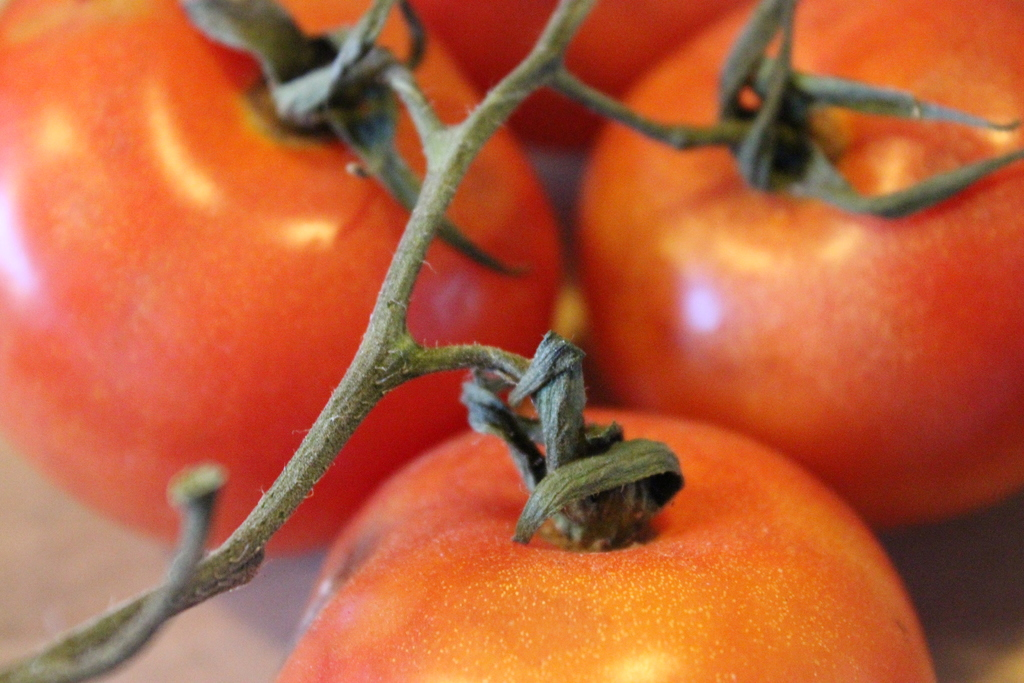Tomato: (0, 0, 565, 546), (571, 0, 1023, 528), (273, 403, 939, 682), (410, 1, 741, 157)
